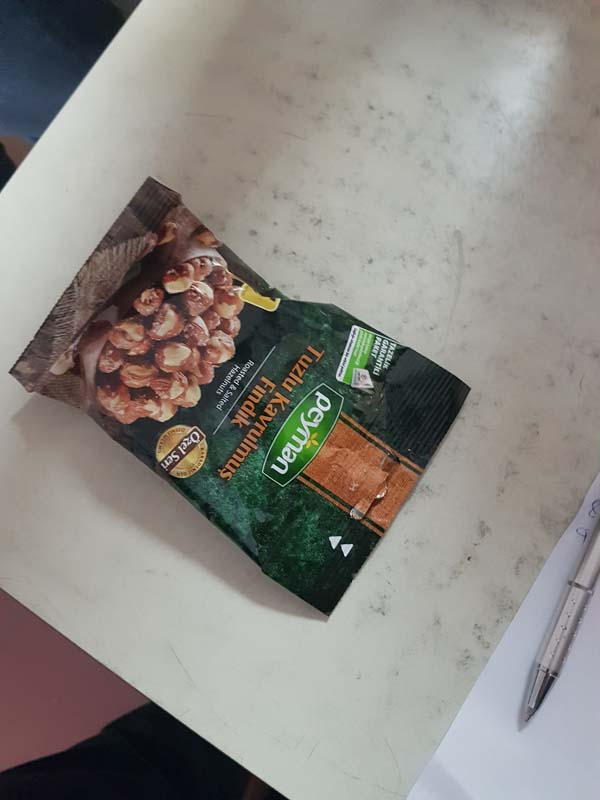peysankavrulmusfindik: (7, 171, 475, 628)
